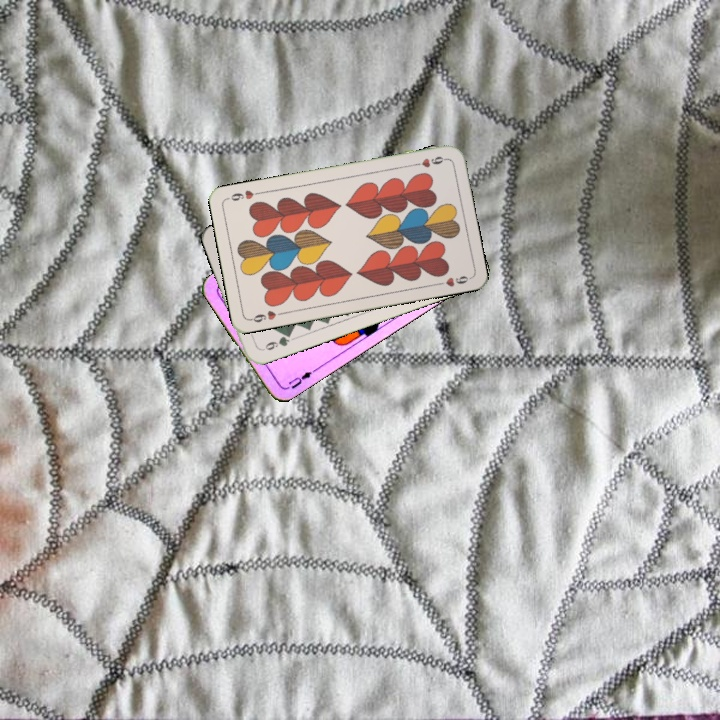EU: (281, 365, 318, 392)
G9: (257, 329, 294, 354)
H9: (246, 307, 286, 325), (409, 152, 449, 170)
